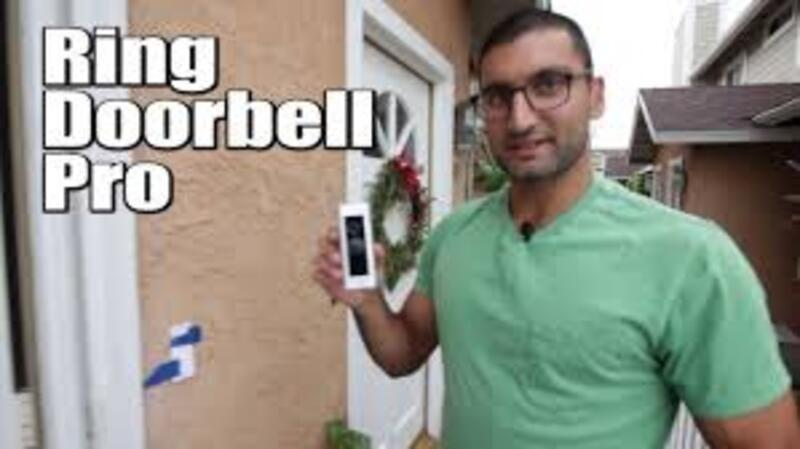doorbell: (339, 199, 379, 292)
